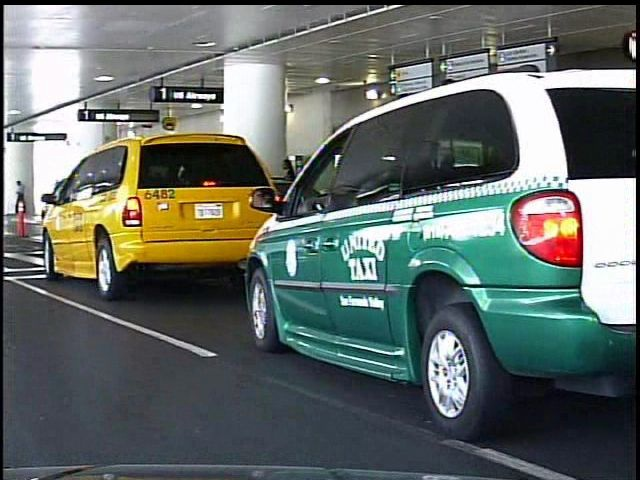person: (13, 178, 26, 204)
